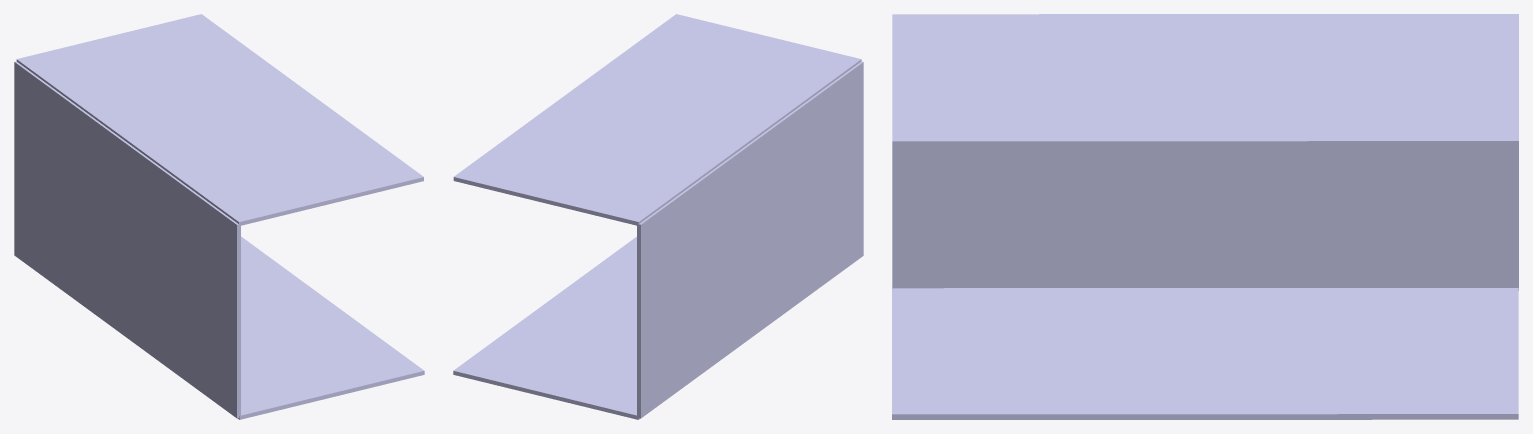
The model's file is PROCaN_L4__57__.dae.
3 views of the same model, side by side, from view 1: azimuth 30°, elevation 25°; view 2: azimuth 150°, elevation 25°; view 3: azimuth 270°, elevation 25° (orthographic). The views are drawn at different scales.
Visible parts, largest first — view 1: Node_0000026EEE533440 (×3); view 2: Node_0000026EEE533440 (×3); view 3: Node_0000026EEE533440 (×3).
Part boxes in pixels (x1,y1,x2,y2): Node_0000026EEE533440 (×3): [14, 14, 424, 419]; Node_0000026EEE533440 (×3): [453, 14, 863, 419]; Node_0000026EEE533440 (×3): [892, 14, 1518, 419].
Size of the model in its own units: 0.0486 by 0.0491 by 0.1.
